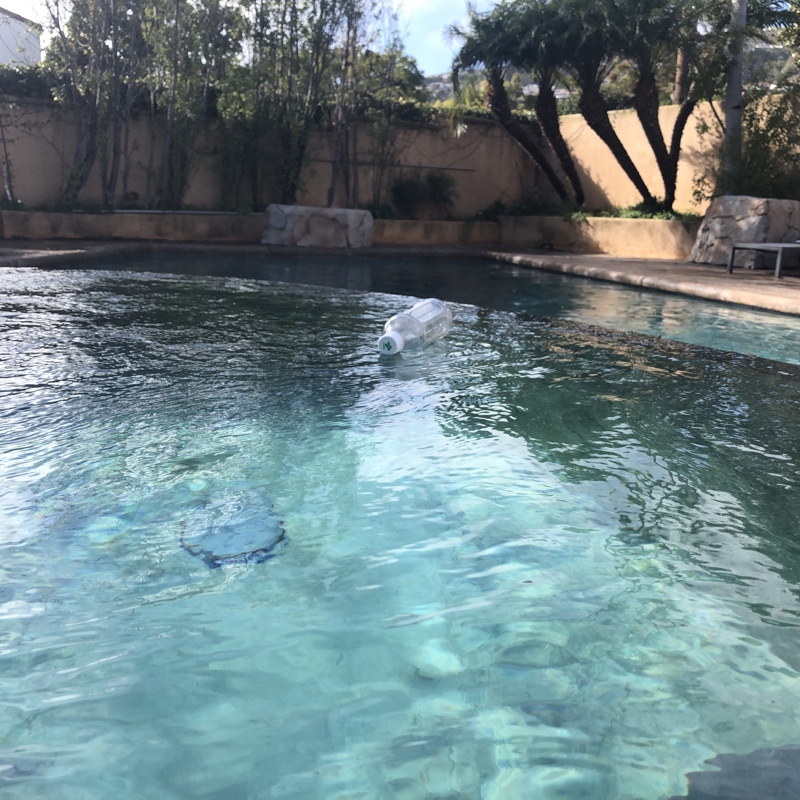Plastic Bottle: (371, 295, 458, 359)
